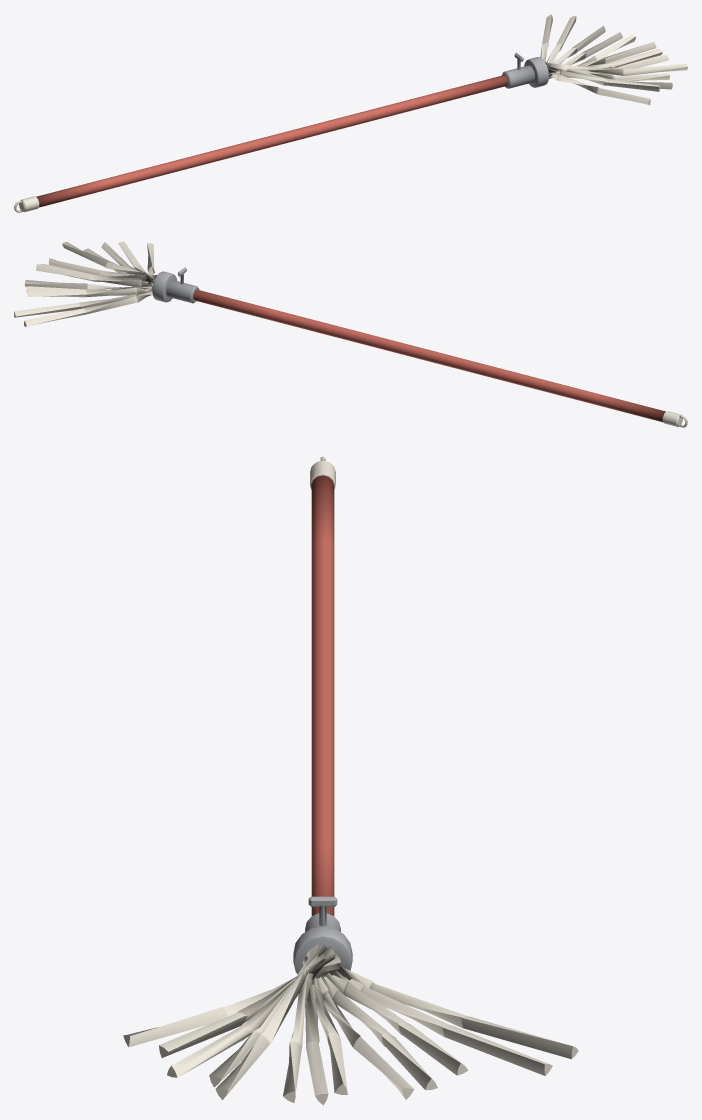
Rendered from junk_mop.glb.
3 renders of one model, top to bottom at view 1: azimuth 30°, elevation 25°; view 2: azimuth 150°, elevation 25°; view 3: azimuth 270°, elevation 25°, orthographic. The views are drawn at different scales.
Visible parts, largest first — view 1: PART; view 2: PART; view 3: PART.
Part boxes in pixels (left/top/right/bottom): PART: left=14, top=14, right=687, bottom=212; PART: left=14, top=241, right=687, bottom=427; PART: left=123, top=456, right=578, bottom=1105.
Size of the model in its own units: 1.67 by 0.0885 by 0.5069.
